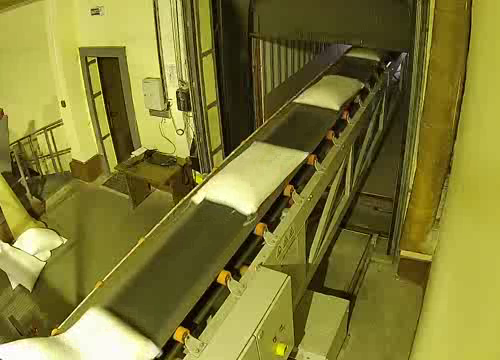bag: (188, 138, 319, 218), (0, 303, 166, 360), (288, 70, 371, 115), (344, 45, 388, 66)
